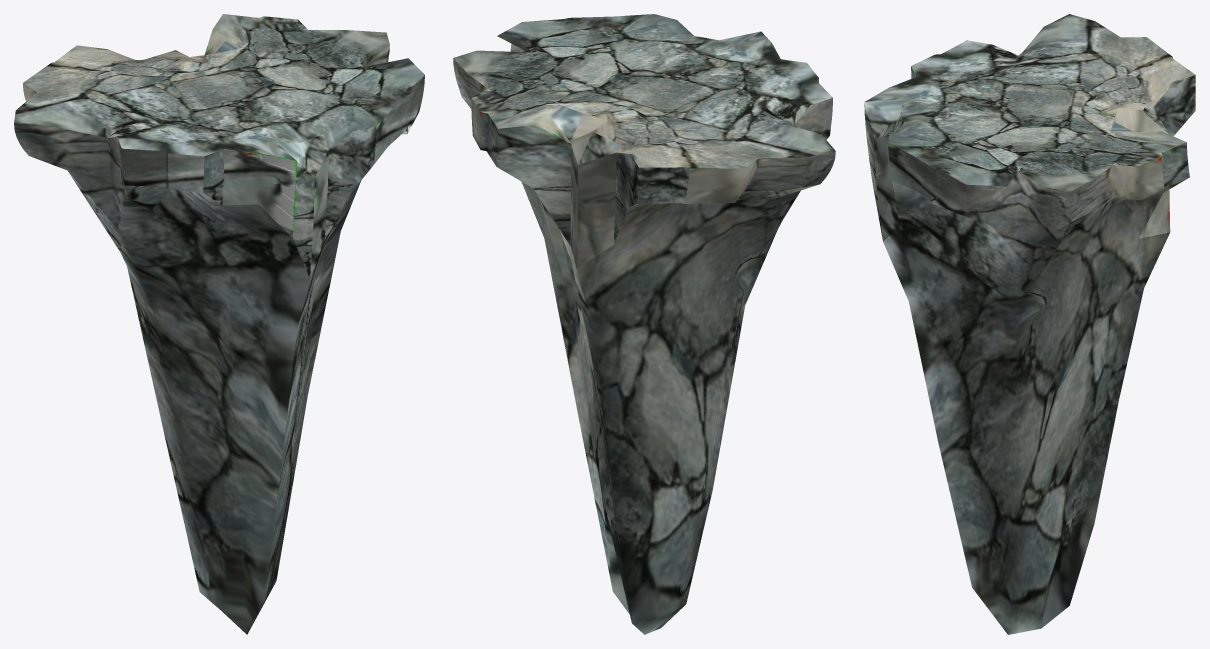
Rendered from F_rock.FBX.
3 renders of one model, left to right at view 1: azimuth 30°, elevation 25°; view 2: azimuth 150°, elevation 25°; view 3: azimuth 270°, elevation 25°, orthographic. The views are drawn at different scales.
Parts seen in each view (by area): view 1: Box001; view 2: Box001; view 3: Box001.
Boxes of the visible parts, bbox=[...] form: Box001: bbox=[14, 14, 424, 634]; Box001: bbox=[453, 14, 835, 634]; Box001: bbox=[864, 14, 1195, 634].
Bounding box in the file's own units: 65.26 × 89.93 × 51.41.
